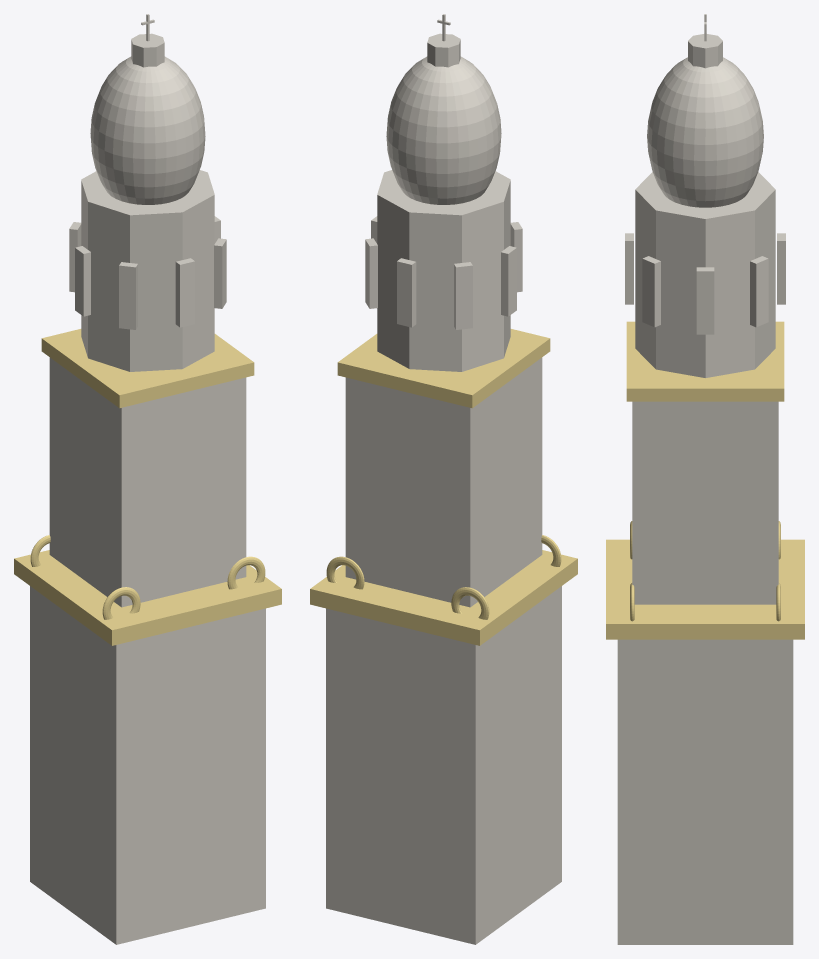
3 views of the same model, side by side, from view 1: azimuth 30°, elevation 25°; view 2: azimuth 150°, elevation 25°; view 3: azimuth 270°, elevation 25° (orthographic).
Parts seen in each view (by area): view 1: Primo_Livello, Secondo_Livello, Tamburo_Ottagonale, Cupola_Bulbo, Cornicione_1, Cornicione_2, Finestra_Ottagonale_7, Finestra_Ottagonale_6, Finestra_Ottagonale_5, Lanterna, Finestra_Ottagonale_8, Voluta_2 (+2 smaller); view 2: Primo_Livello, Secondo_Livello, Tamburo_Ottagonale, Cupola_Bulbo, Cornicione_1, Cornicione_2, Finestra_Ottagonale_3, Finestra_Ottagonale_4, Finestra_Ottagonale_5, Lanterna, Finestra_Ottagonale_2, Voluta_3 (+2 smaller); view 3: Primo_Livello, Secondo_Livello, Tamburo_Ottagonale, Cupola_Bulbo, Cornicione_1, Cornicione_2, Finestra_Ottagonale_1, Finestra_Ottagonale_2, Finestra_Ottagonale_8, Lanterna, Finestra_Ottagonale_3, Finestra_Ottagonale_7.
Part boxes in pixels (box(x1,y1,x2,y2)): Primo_Livello: box(30, 586, 265, 944); Secondo_Livello: box(49, 357, 246, 607); Tamburo_Ottagonale: box(81, 170, 214, 371); Cupola_Bulbo: box(90, 56, 205, 204); Cornicione_1: box(14, 550, 281, 645); Cornicione_2: box(41, 329, 254, 408); Finestra_Ottagonale_7: box(175, 258, 194, 327); Finestra_Ottagonale_6: box(119, 262, 137, 329); Finestra_Ottagonale_5: box(75, 246, 90, 316); Lanterna: box(131, 33, 164, 67); Finestra_Ottagonale_8: box(214, 238, 226, 308); Voluta_2: box(227, 556, 265, 589); Primo_Livello: box(326, 586, 561, 944); Secondo_Livello: box(345, 357, 542, 607); Tamburo_Ottagonale: box(377, 170, 510, 371); Cupola_Bulbo: box(386, 56, 501, 204); Cornicione_1: box(310, 550, 577, 645); Cornicione_2: box(337, 329, 550, 408); Finestra_Ottagonale_3: box(397, 258, 416, 327); Finestra_Ottagonale_4: box(454, 262, 472, 329); Finestra_Ottagonale_5: box(501, 246, 516, 316); Lanterna: box(427, 33, 460, 67); Finestra_Ottagonale_2: box(365, 238, 377, 308); Voluta_3: box(326, 556, 364, 589); Primo_Livello: box(617, 639, 793, 944); Secondo_Livello: box(632, 401, 778, 604); Tamburo_Ottagonale: box(635, 172, 775, 377); Cupola_Bulbo: box(647, 57, 763, 207); Cornicione_1: box(606, 539, 804, 639); Cornicione_2: box(626, 321, 784, 401); Finestra_Ottagonale_1: box(696, 267, 714, 334); Finestra_Ottagonale_2: box(750, 256, 768, 327); Finestra_Ottagonale_8: box(642, 256, 660, 327); Lanterna: box(688, 34, 722, 68); Finestra_Ottagonale_3: box(777, 233, 785, 304); Finestra_Ottagonale_7: box(625, 233, 633, 304).
Size of the model in its own units: 3.4 by 16.85 by 3.4.
